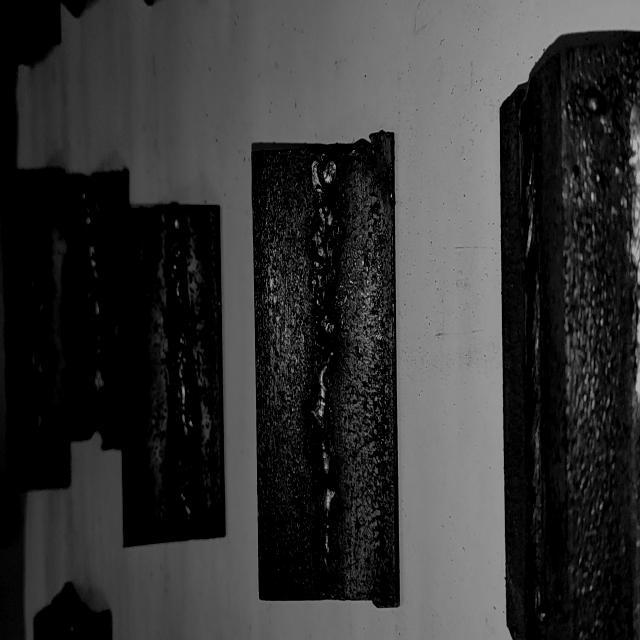Defect: (162, 222, 200, 526), (302, 362, 342, 590), (300, 172, 344, 343), (26, 180, 44, 472)
Welding Line: (310, 155, 338, 589), (522, 90, 542, 624), (166, 220, 194, 530), (81, 196, 104, 424)
Workpiece: (497, 41, 640, 640), (253, 138, 399, 606), (120, 208, 220, 540), (4, 167, 69, 486), (62, 182, 128, 442)
